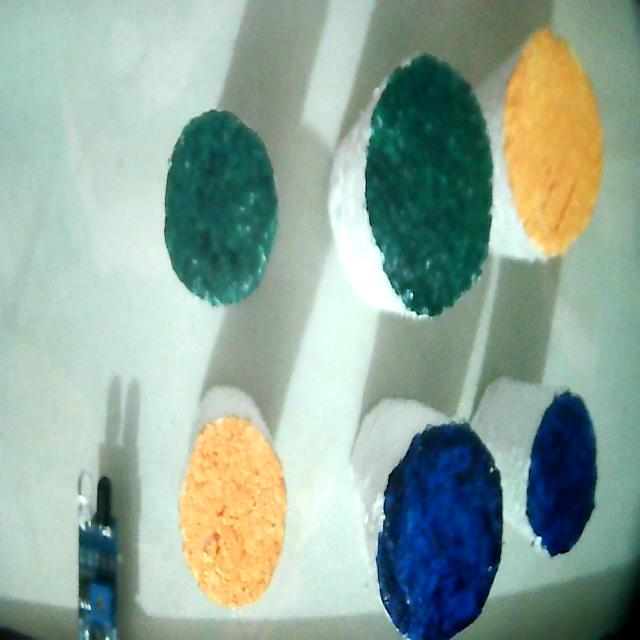blue: (376, 423, 502, 639), (527, 392, 596, 555)
green: (366, 56, 491, 315), (165, 111, 278, 305)
yellow: (504, 29, 602, 255), (179, 417, 286, 607)
